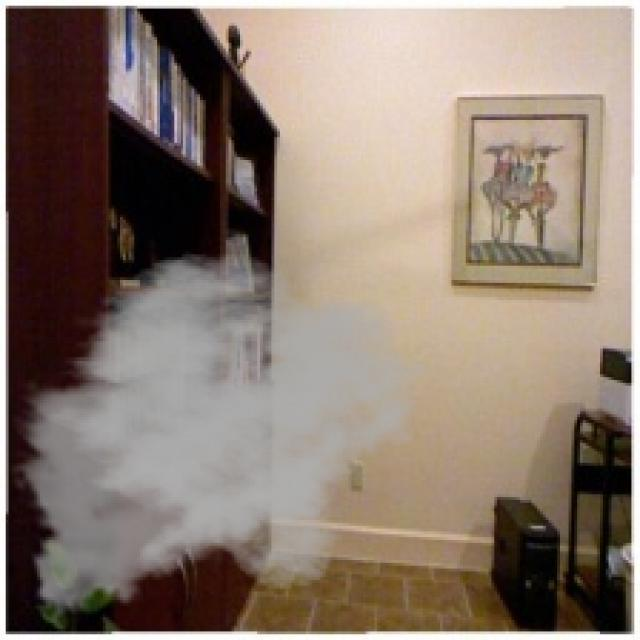Smoke: (9, 252, 432, 628)
